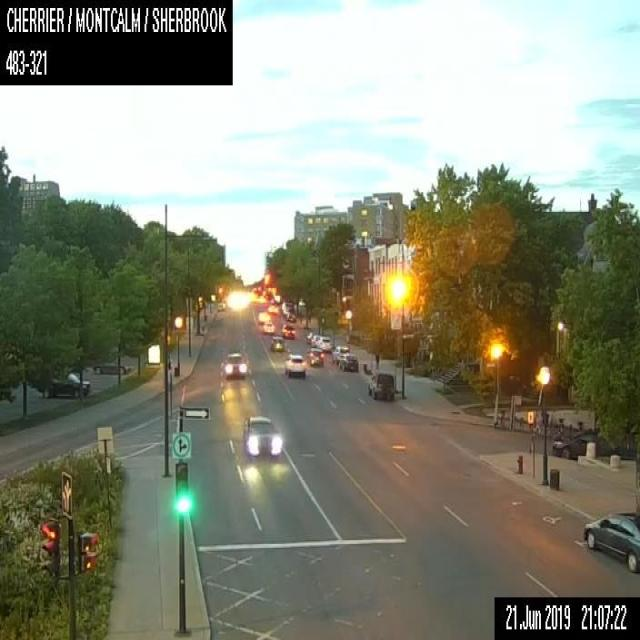pedestrian: (374, 351, 379, 367)
vehicle: (582, 512, 639, 572), (551, 428, 608, 459), (242, 415, 283, 456), (36, 372, 89, 398), (367, 371, 393, 400), (222, 353, 246, 379), (93, 361, 130, 374), (284, 353, 304, 377), (338, 352, 357, 372), (331, 344, 349, 364), (306, 347, 322, 365), (315, 336, 331, 352), (270, 336, 284, 350), (281, 324, 293, 339), (257, 310, 269, 323), (262, 321, 274, 333), (310, 333, 321, 346), (268, 303, 277, 313), (306, 331, 313, 343), (286, 312, 294, 321)
